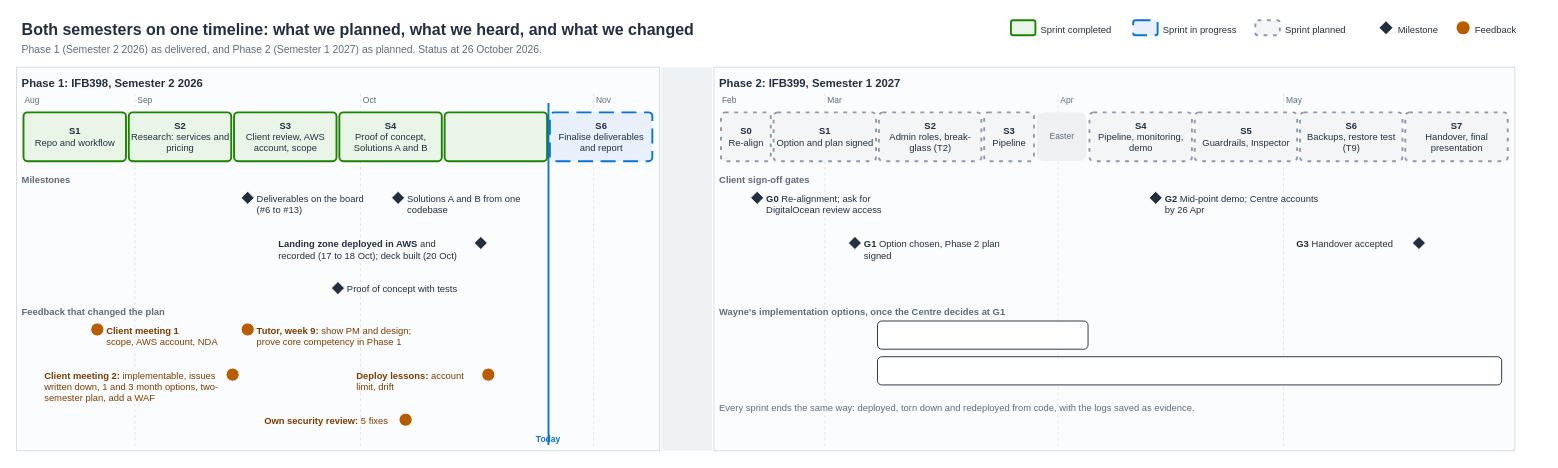
This 1558x468 diagram has some shape labels left out. The centre of each missing label's shape, as x and y in pixels:
1 month option : guarded foundation in the Centre's accounts: pixel 982 334
3 month option : ready for real tenants (closes T1, T2, T9 before production): pixel 1189 370
S5 Deploy, demo and deck: pixel 495 136
Summer break: pixel 686 258
